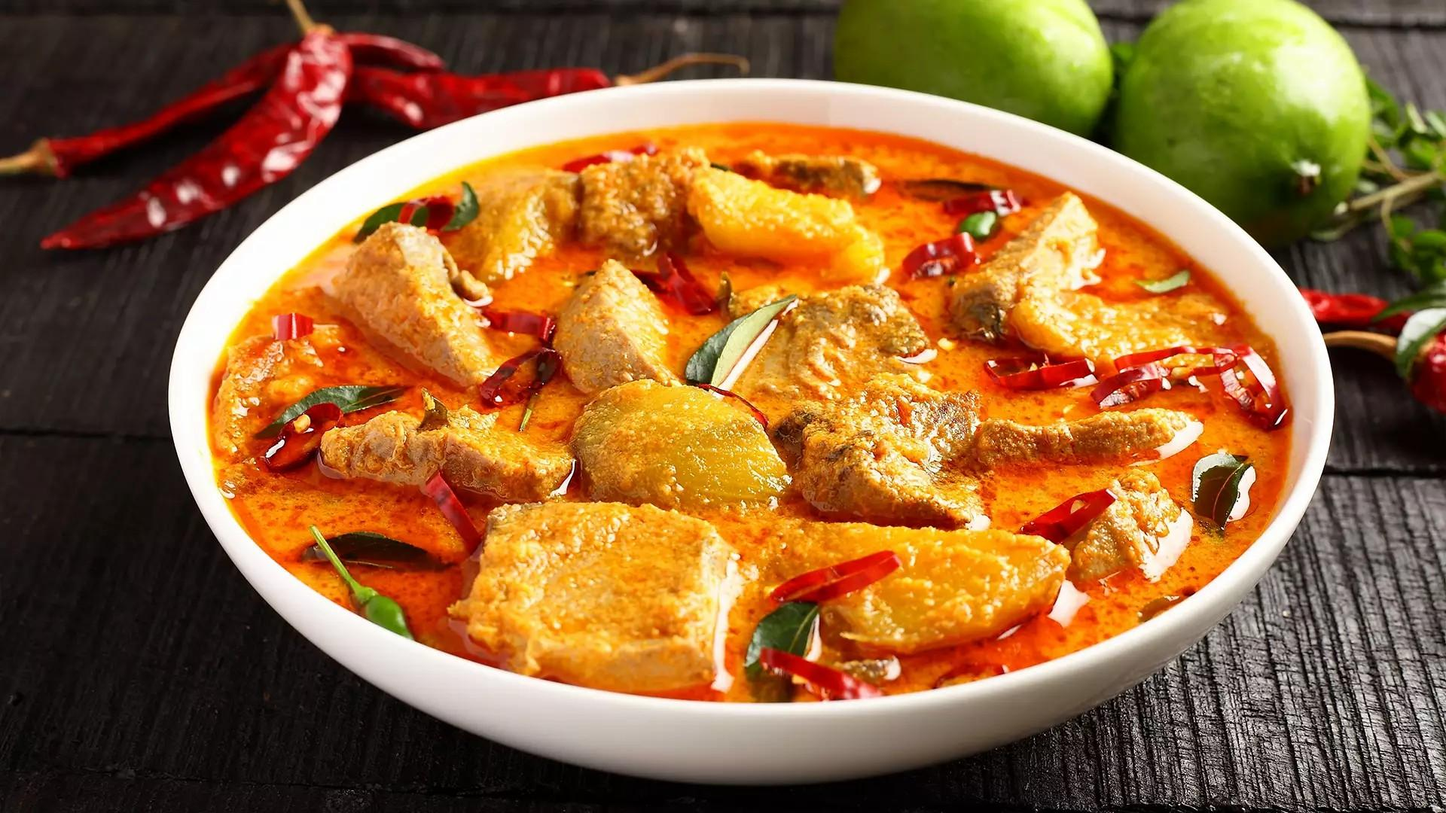FishCurry: (208, 120, 1289, 708)
